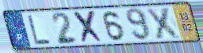2: (50, 11, 80, 46)
6: (101, 10, 126, 42)
9: (125, 7, 152, 42)
L: (26, 13, 53, 46)
X: (144, 6, 184, 40), (72, 9, 107, 45)
